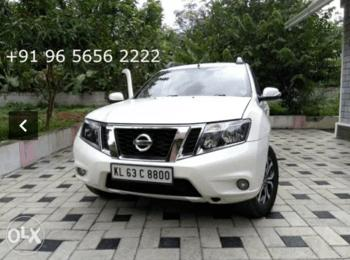License-Plate: (110, 162, 176, 189)
